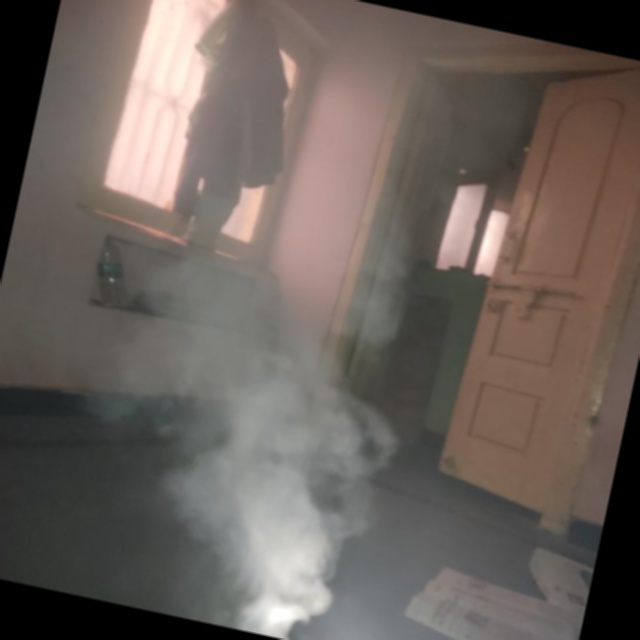smoke: (121, 283, 415, 640)
